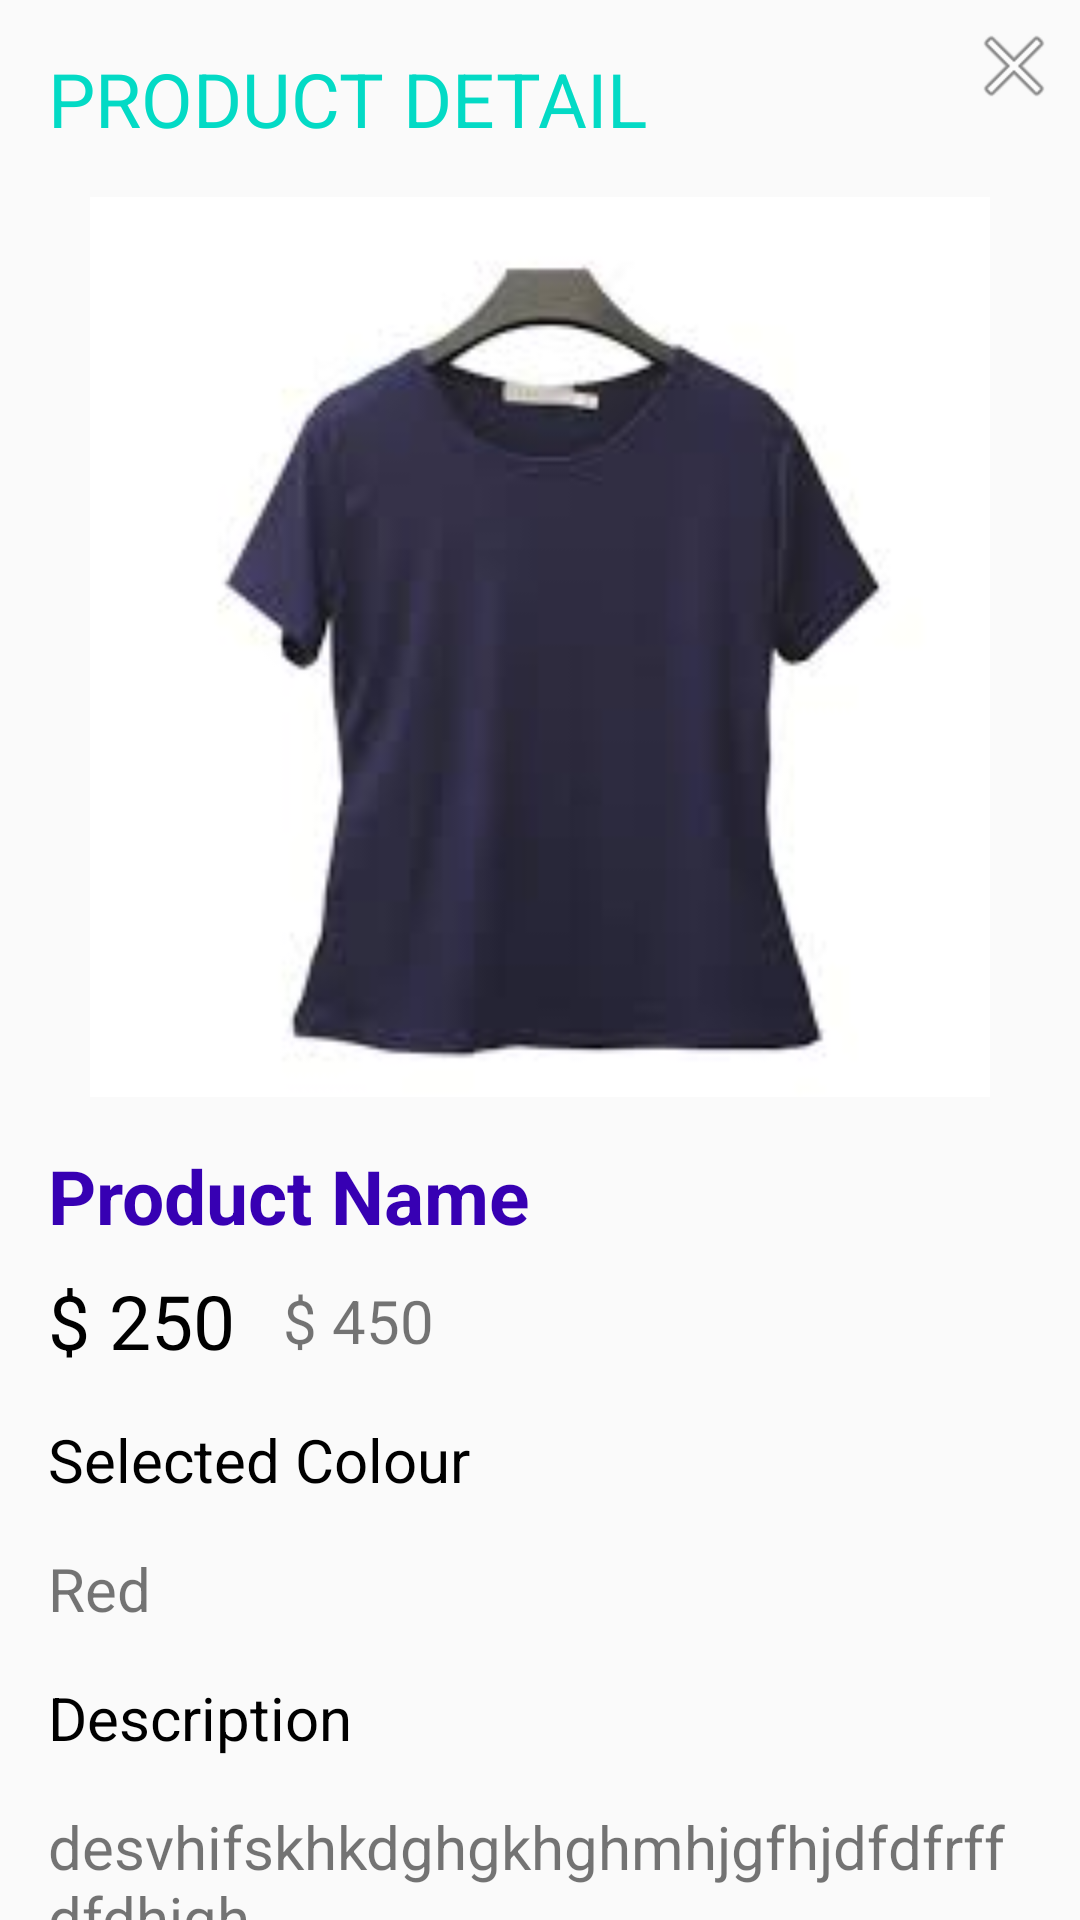

Where icons sit on this 1080×1920 app screen, as (x1,y1,x2,y2):
close clear cancel: (984,36,1044,96)
